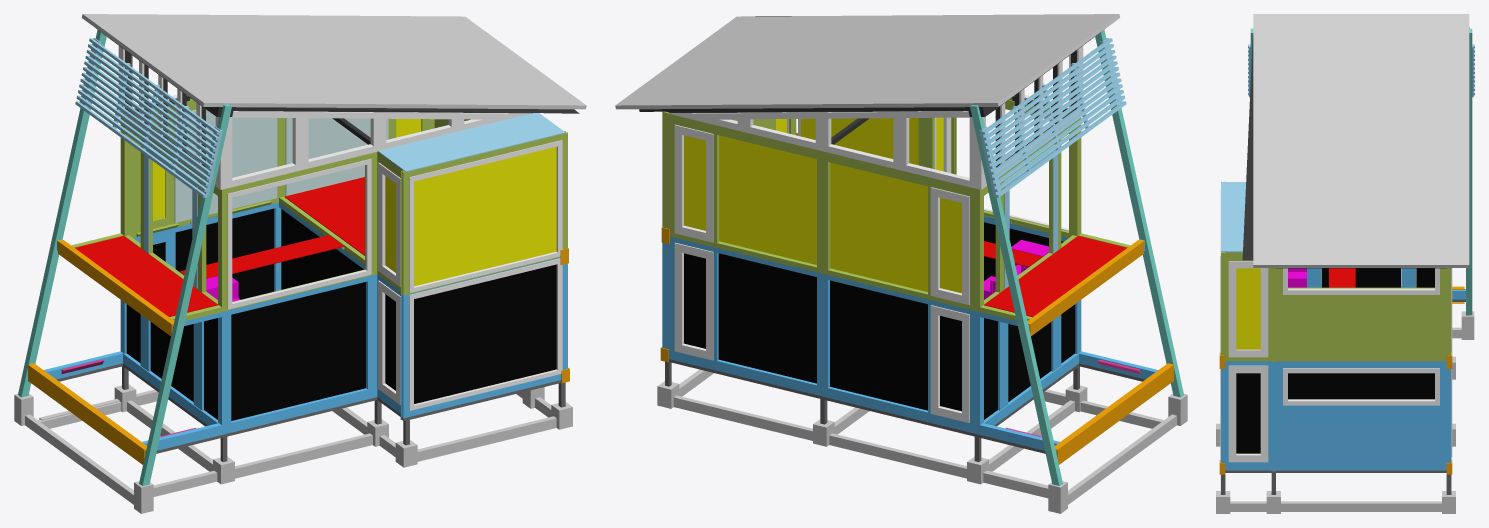
The model's file is M-Size.glb.
3 views of the same model, side by side, from view 1: azimuth 30°, elevation 25°; view 2: azimuth 150°, elevation 25°; view 3: azimuth 270°, elevation 25° (orthographic). The views are drawn at different scales.
Parts seen in each view (by area): view 1: N1Soportes, Techo, N2Soportes, N1, N2Piso, Anclajes, Ventanas, Dados, N2Pisos, Int_Ventanas, Aluminios, object 3 (+3 smaller); view 2: Techo, N1Soportes, N2Soportes, Anclajes, N1, Dados, N2Piso, Ventanas, Aluminios, object 3, Connectors, N2Pisos (+3 smaller); view 3: Techo, N1, Anclajes, Ventanas, N1Soportes, Dados, N2Soportes, N2Piso, Techo N3, object 3, Soportes Bajos, N2Pisos (+2 smaller).
Boxes of the visible parts, left/top/right/bottom form: N1Soportes: left=126, top=208, right=556, bottom=420; Techo: left=81, top=14, right=586, bottom=109; N2Soportes: left=140, top=109, right=556, bottom=286; N1: left=44, top=202, right=567, bottom=453; N2Piso: left=75, top=38, right=565, bottom=328; Anclajes: left=57, top=98, right=567, bottom=326; Ventanas: left=227, top=140, right=562, bottom=410; Dados: left=14, top=384, right=572, bottom=513; N2Pisos: left=75, top=177, right=364, bottom=317; Int_Ventanas: left=174, top=109, right=388, bottom=222; Aluminios: left=118, top=46, right=531, bottom=189; object 3: left=18, top=30, right=231, bottom=485; Techo: left=615, top=14, right=1120, bottom=109; N1Soportes: left=684, top=222, right=1075, bottom=419; N2Soportes: left=684, top=117, right=961, bottom=293; Anclajes: left=662, top=98, right=1144, bottom=327; N1: left=662, top=216, right=1157, bottom=453; Dados: left=657, top=369, right=1187, bottom=513; N2Piso: left=979, top=38, right=1126, bottom=325; Ventanas: left=674, top=117, right=1068, bottom=422; Aluminios: left=669, top=46, right=1083, bottom=189; object 3: left=970, top=30, right=1183, bottom=485; Connectors: left=660, top=133, right=1173, bottom=464; N2Pisos: left=984, top=236, right=1126, bottom=317; Techo: left=1253, top=14, right=1469, bottom=267; N1: left=1221, top=268, right=1466, bottom=471; Anclajes: left=1221, top=181, right=1451, bottom=362; Ventanas: left=1220, top=189, right=1452, bottom=462; N1Soportes: left=1236, top=268, right=1434, bottom=453; Dados: left=1216, top=311, right=1474, bottom=513; N2Soportes: left=1236, top=268, right=1260, bottom=349; N2Piso: left=1221, top=44, right=1474, bottom=252; Techo N3: left=1242, top=27, right=1469, bottom=268; object 3: left=1250, top=28, right=1472, bottom=315; Soportes Bajos: left=1221, top=299, right=1466, bottom=494; N2Pisos: left=1329, top=268, right=1355, bottom=287.
Size of the model in its own units: 0.2587 by 0.2167 by 0.1456.
